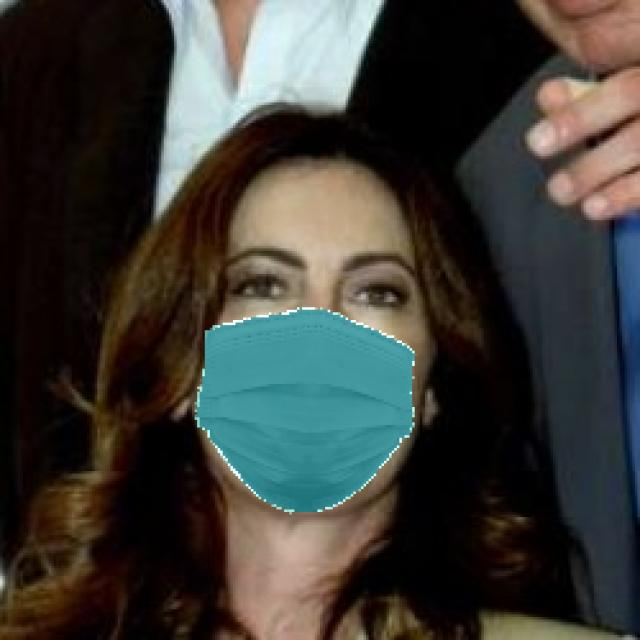mask: (182, 314, 423, 524)
